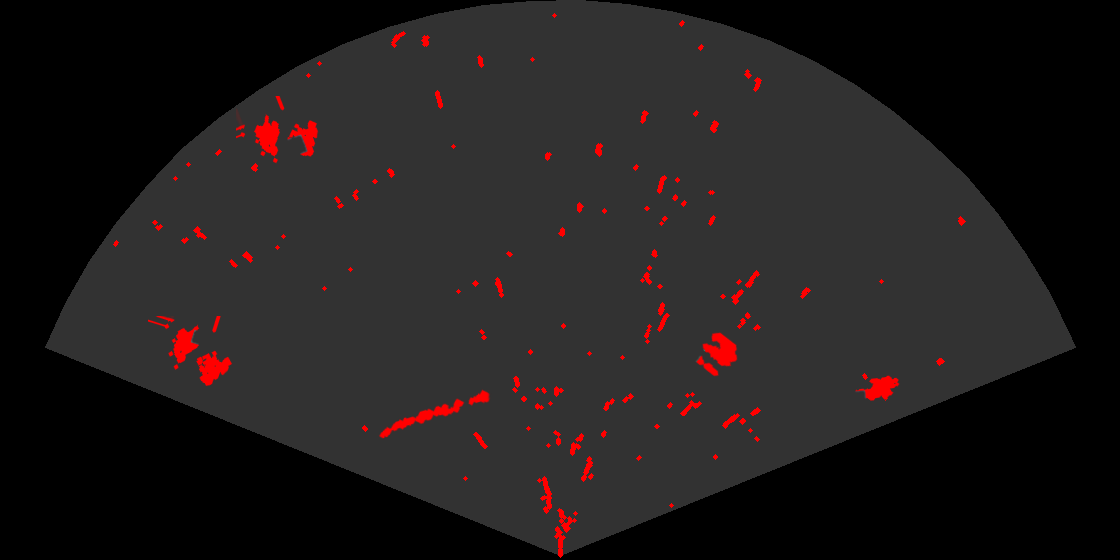AUV: (854, 374, 901, 402)
ball: (695, 331, 739, 378)
cage: (148, 316, 234, 388), (236, 96, 320, 165)
chain: (377, 388, 492, 440)
